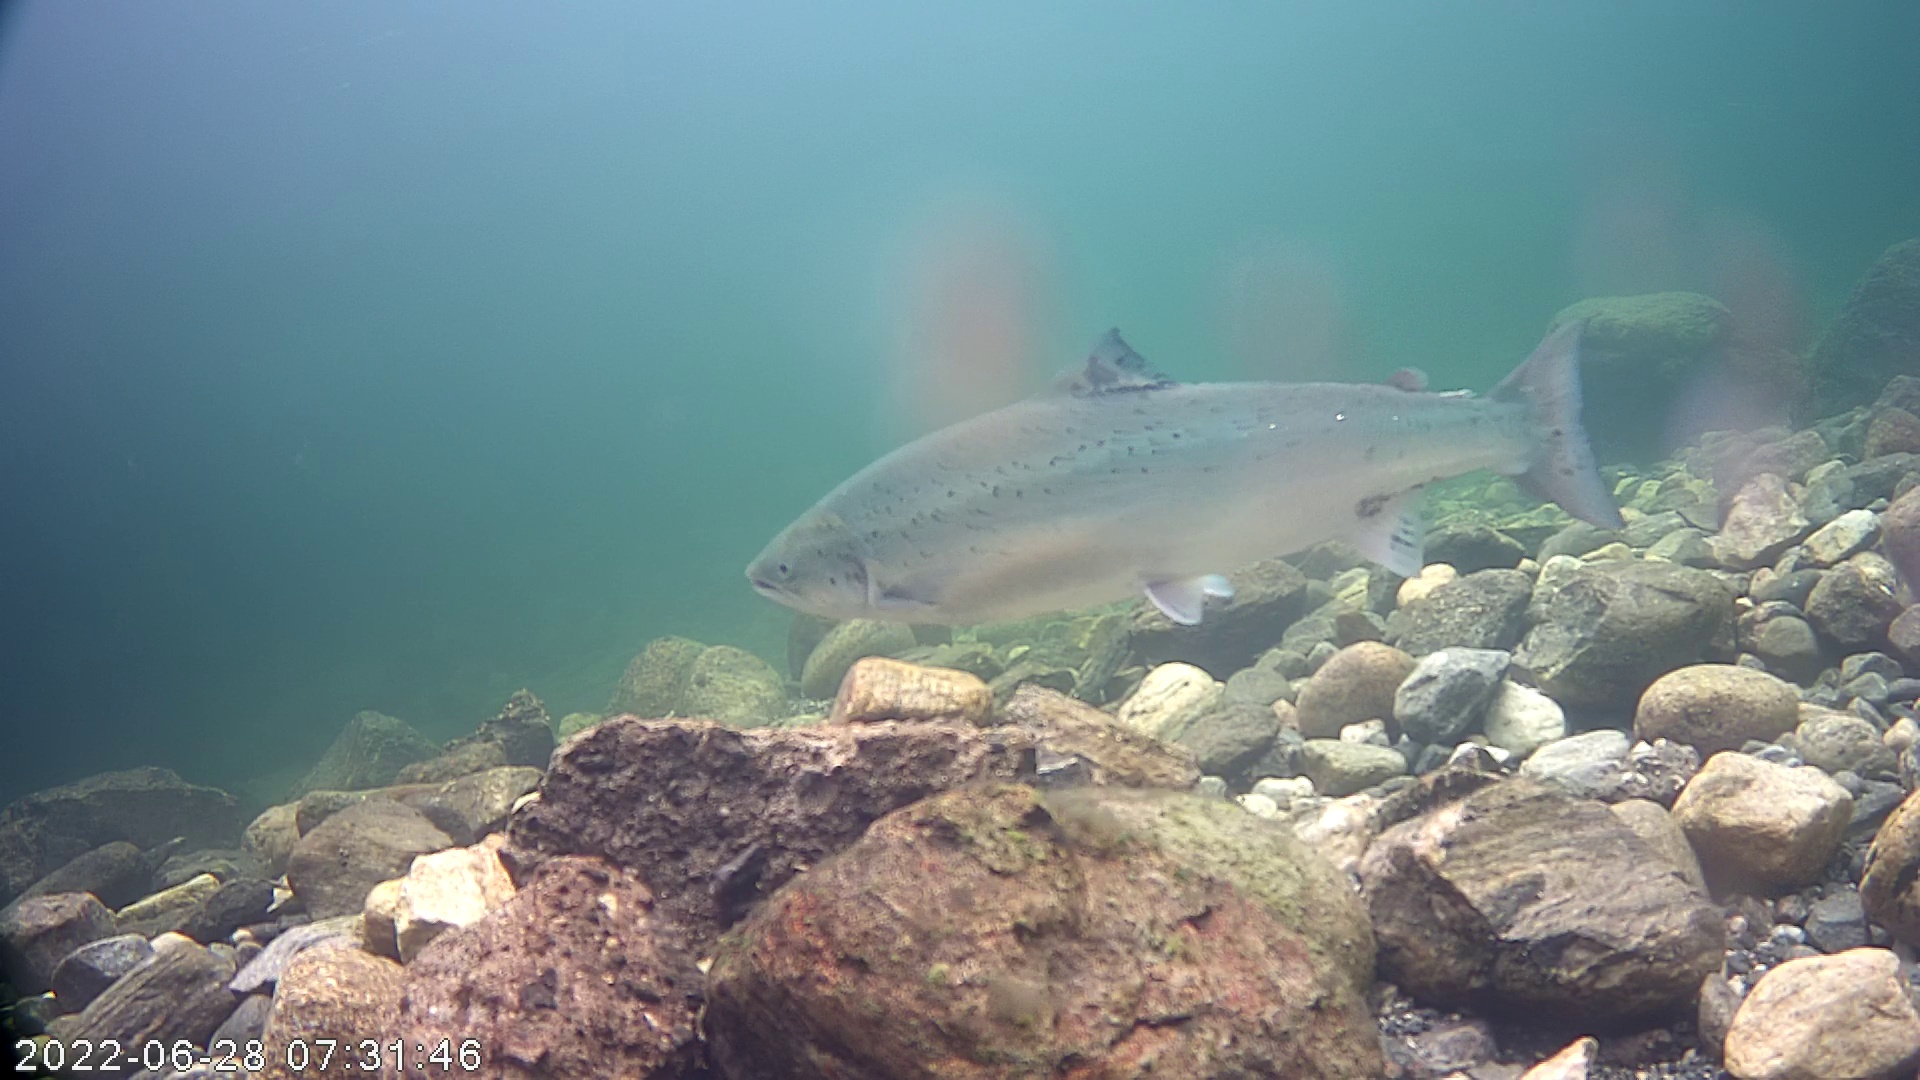salmon: (732, 232, 1640, 684)
